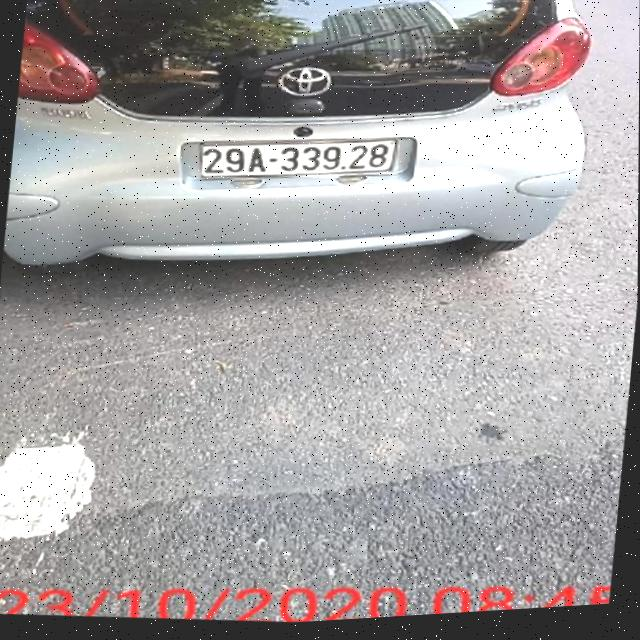car: (2, 0, 610, 315)
plate: (193, 118, 401, 196)
